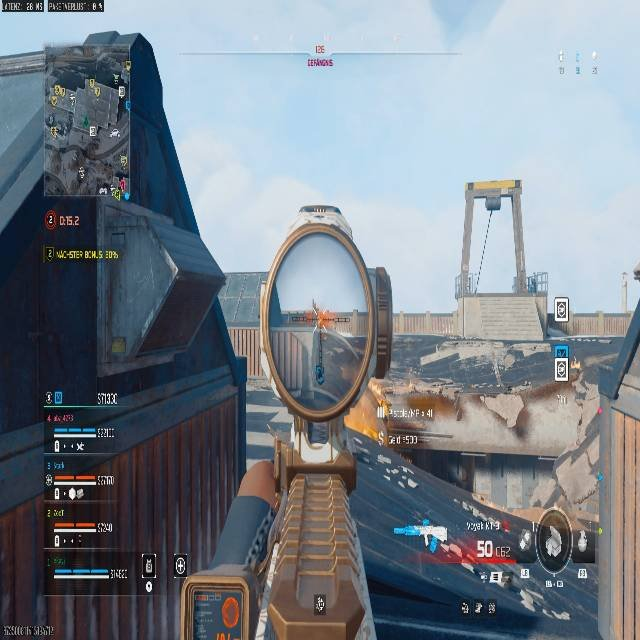player: (314, 363, 324, 385)
